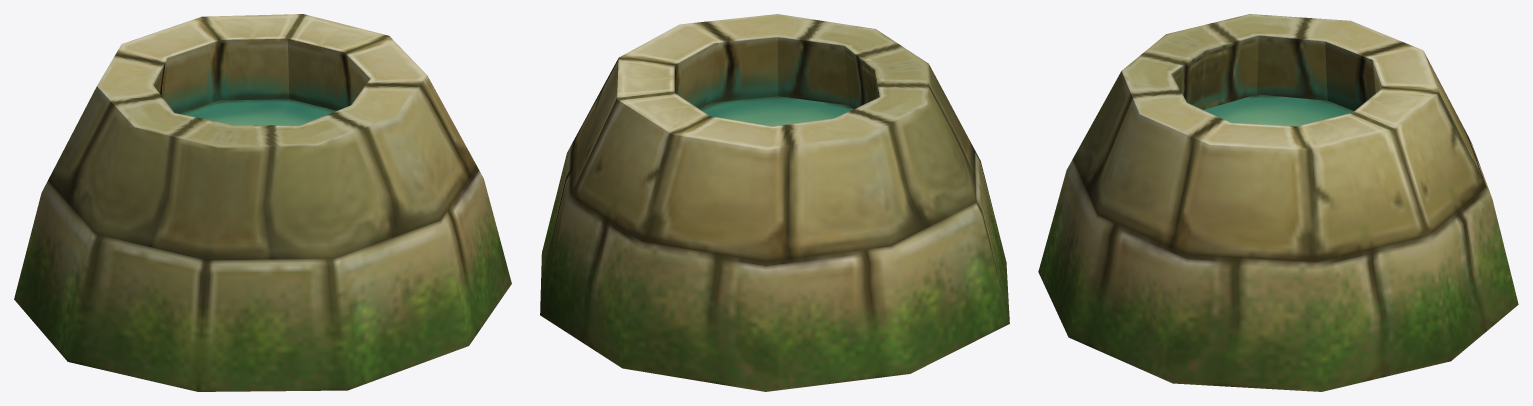
Rendered from Shuijing03.FBX.
3 renders of one model, left to right at view 1: azimuth 30°, elevation 25°; view 2: azimuth 150°, elevation 25°; view 3: azimuth 270°, elevation 25°, orthographic.
Visible parts, largest first — view 1: shuijing03; view 2: shuijing03; view 3: shuijing03.
Part boxes in pixels (box(x1,y1,x2,y2)): shuijing03: box(14, 14, 511, 391); shuijing03: box(540, 14, 1009, 391); shuijing03: box(1038, 14, 1518, 391).
Bounding box in the file's own units: 63.58 × 29.7 × 62.43.
